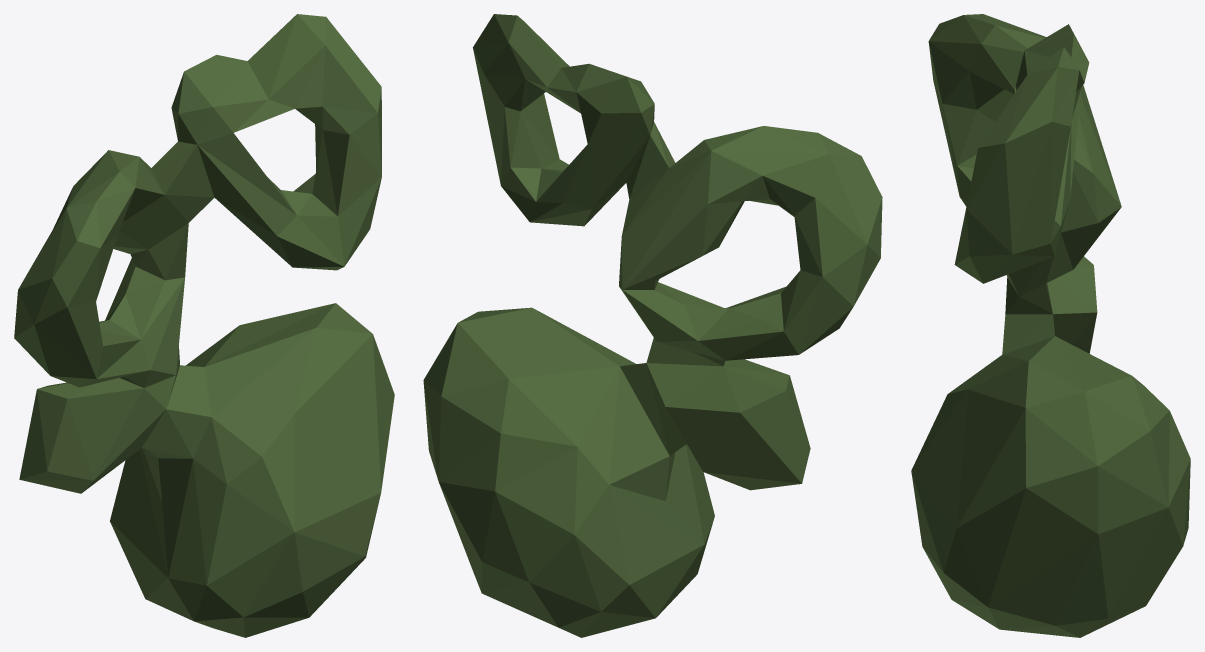
File: algae03.fbx
3 views of the same model, side by side, from view 1: azimuth 30°, elevation 25°; view 2: azimuth 150°, elevation 25°; view 3: azimuth 270°, elevation 25° (orthographic). The views are drawn at different scales.
Parts seen in each view (by area): view 1: algae_03; view 2: algae_03; view 3: algae_03.
Part boxes in pixels (x1=…): algae_03: x1=14, y1=14, x2=394, y2=637; algae_03: x1=423, y1=14, x2=882, y2=637; algae_03: x1=911, y1=14, x2=1190, y2=637.
Size of the model in its own units: 56.67 by 81.25 by 33.74.
